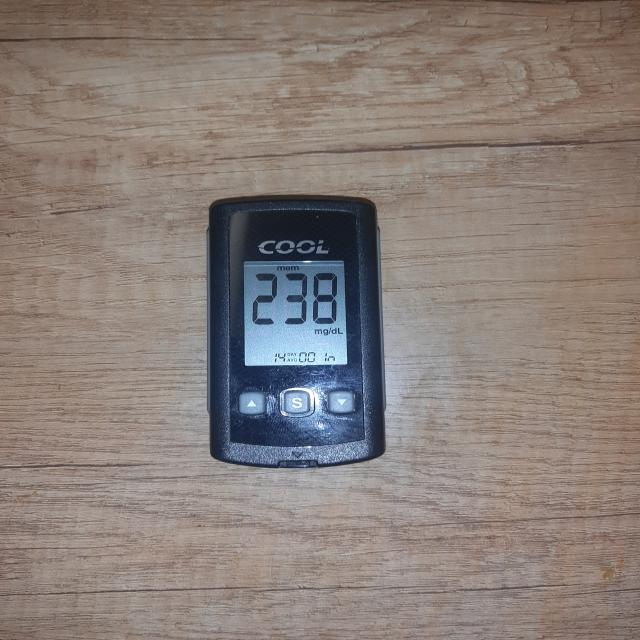display: (243, 260, 349, 366)
frame: (250, 271, 342, 326), (298, 351, 316, 363), (272, 351, 288, 364)
gauge: (210, 194, 386, 469)
